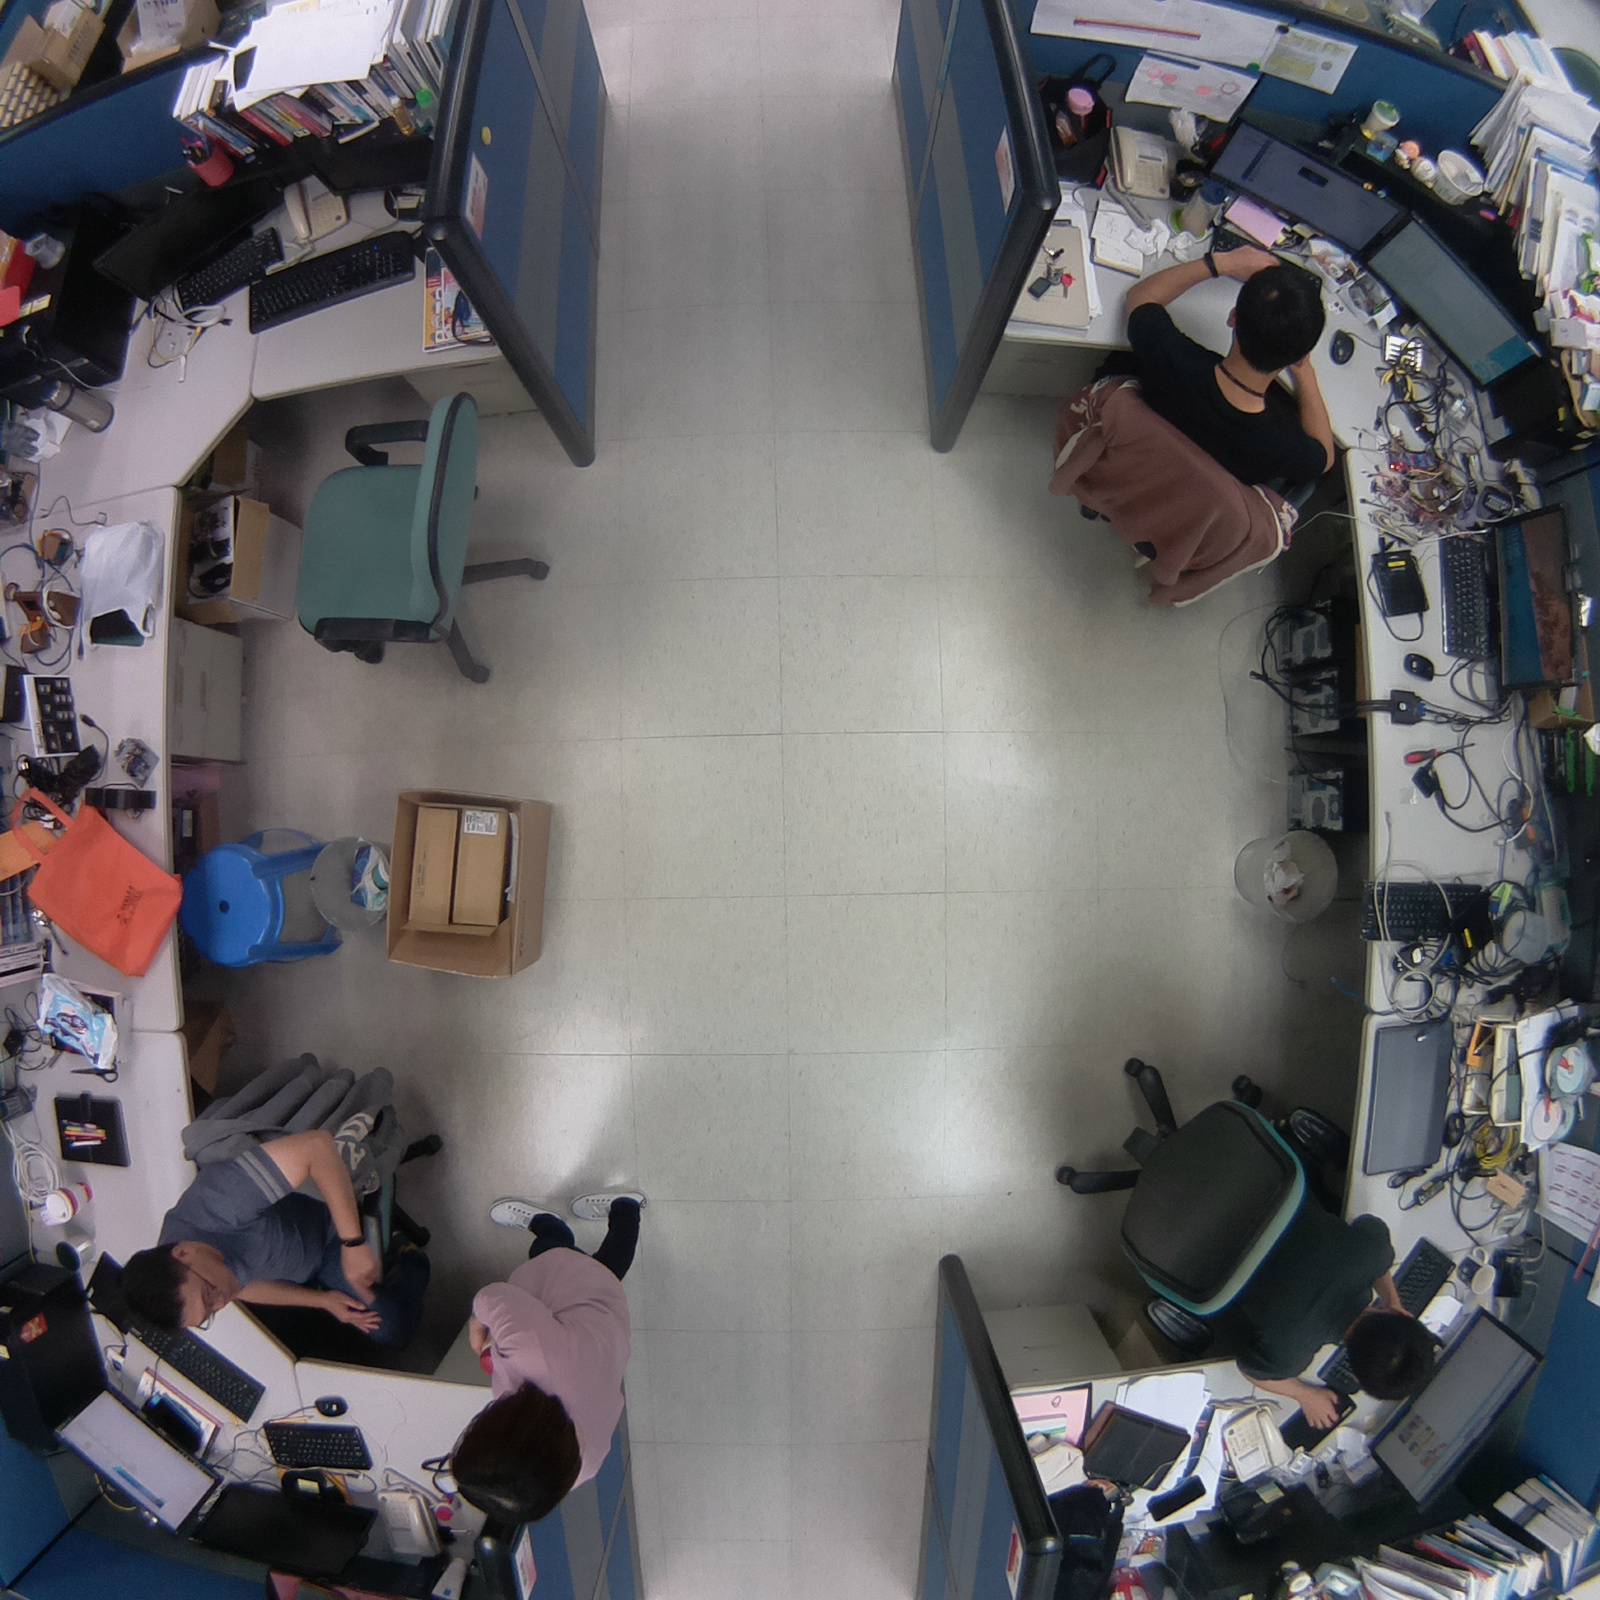chair: (273, 365, 563, 709)
head: (446, 1374, 590, 1533), (107, 1231, 243, 1339), (1219, 249, 1333, 374), (1331, 1300, 1446, 1412)
sitting: (1045, 1037, 1441, 1449), (1035, 223, 1350, 627), (102, 1045, 458, 1358)
standing: (439, 1172, 659, 1538)
